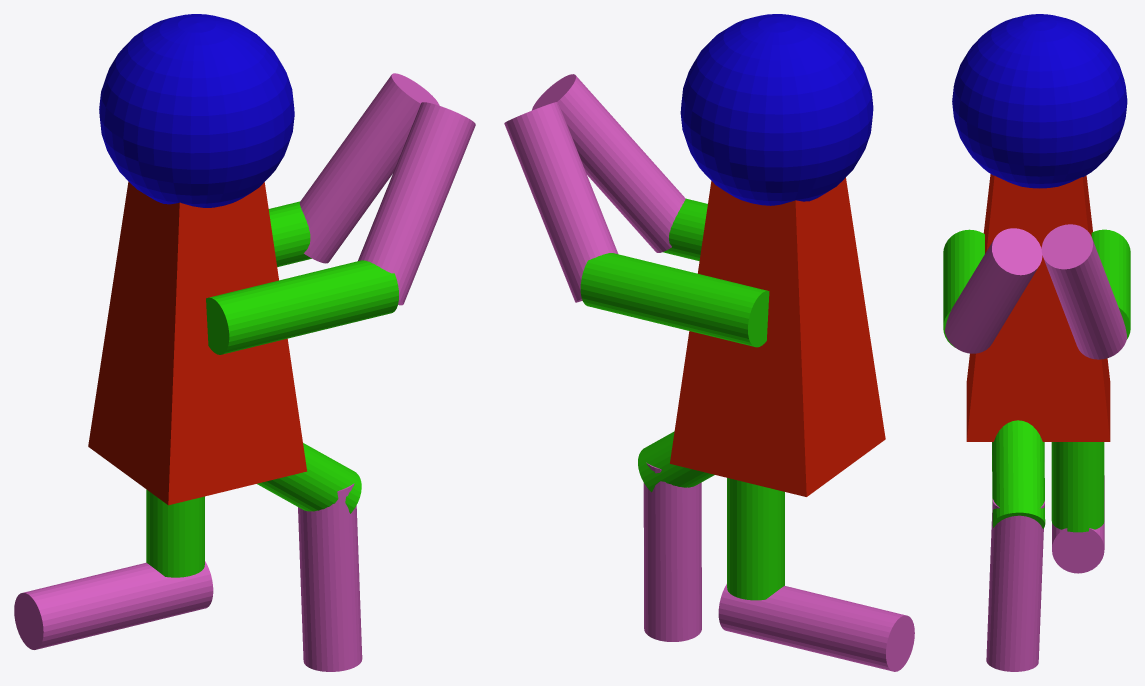
Rendered from human_inori.fbx.
3 views of the same model, side by side, from view 1: azimuth 30°, elevation 25°; view 2: azimuth 150°, elevation 25°; view 3: azimuth 270°, elevation 25° (orthographic). The views are drawn at different scales.
Parts seen in each view (by area): view 1: Body, Head, LeftArm, RightLeg, leftHand, RightHand, LeftLeg, RightKnee, LeftKnee, RightArm; view 2: Body, Head, RightArm, RightLeg, RightHand, leftHand, LeftLeg, RightKnee, LeftKnee, LeftArm; view 3: Head, Body, LeftLeg, RightHand, leftHand, LeftKnee, RightKnee, LeftArm, RightArm, RightLeg.
Part boxes in pixels (bbox=[...]): Body: bbox=[88, 181, 307, 505]; Head: bbox=[99, 14, 294, 207]; LeftArm: bbox=[206, 260, 398, 354]; RightLeg: bbox=[14, 561, 213, 649]; leftHand: bbox=[358, 102, 475, 305]; RightHand: bbox=[299, 73, 439, 263]; LeftLeg: bbox=[298, 483, 362, 671]; RightKnee: bbox=[146, 489, 204, 577]; LeftKnee: bbox=[257, 443, 361, 513]; RightArm: bbox=[268, 201, 311, 266]; Body: bbox=[670, 177, 885, 496]; Head: bbox=[680, 14, 873, 205]; RightArm: bbox=[580, 253, 769, 347]; RightLeg: bbox=[718, 584, 914, 671]; RightHand: bbox=[504, 102, 618, 302]; leftHand: bbox=[532, 74, 685, 252]; LeftLeg: bbox=[643, 462, 701, 641]; RightKnee: bbox=[727, 478, 784, 600]; LeftKnee: bbox=[638, 431, 714, 492]; LeftArm: bbox=[663, 198, 707, 261]; Head: bbox=[952, 14, 1127, 188]; Body: bbox=[966, 174, 1110, 441]; LeftLeg: bbox=[986, 499, 1044, 671]; RightHand: bbox=[1041, 224, 1126, 359]; leftHand: bbox=[945, 228, 1042, 353]; LeftKnee: bbox=[992, 420, 1045, 528]; RightKnee: bbox=[1051, 442, 1104, 532]; LeftArm: bbox=[943, 229, 984, 347]; RightArm: bbox=[1091, 229, 1130, 339]; RightLeg: bbox=[1052, 475, 1104, 573].
Size of the model in its own units: 479 by 739 by 214.
